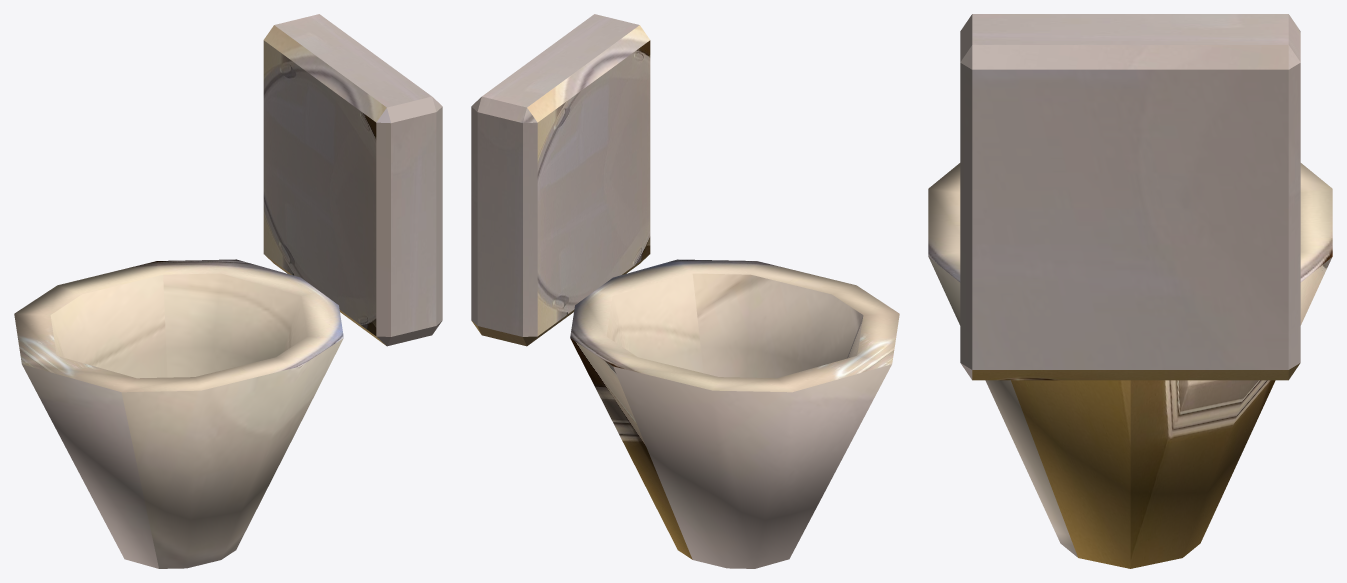
Rendered from toilet.glb.
3 renders of one model, left to right at view 1: azimuth 30°, elevation 25°; view 2: azimuth 150°, elevation 25°; view 3: azimuth 270°, elevation 25°, orthographic. The views are drawn at different scales.
Parts seen in each view (by area): view 1: Toilet; view 2: Toilet; view 3: Toilet.
Part boxes in pixels (left/top/right/bottom): Toilet: left=14, top=14, right=442, bottom=568; Toilet: left=471, top=14, right=899, bottom=568; Toilet: left=928, top=14, right=1332, bottom=568.
Bounding box in the file's own units: 1.04 × 1.21 × 0.7112.
Materials: 1 (1 with a texture image).
